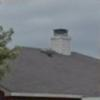chimneys: (50, 29, 72, 57)
